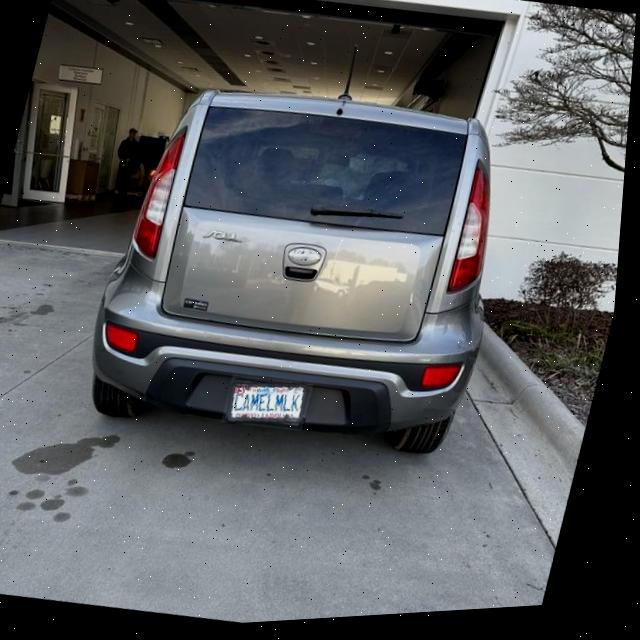LicensePlate: (232, 386, 316, 427)
